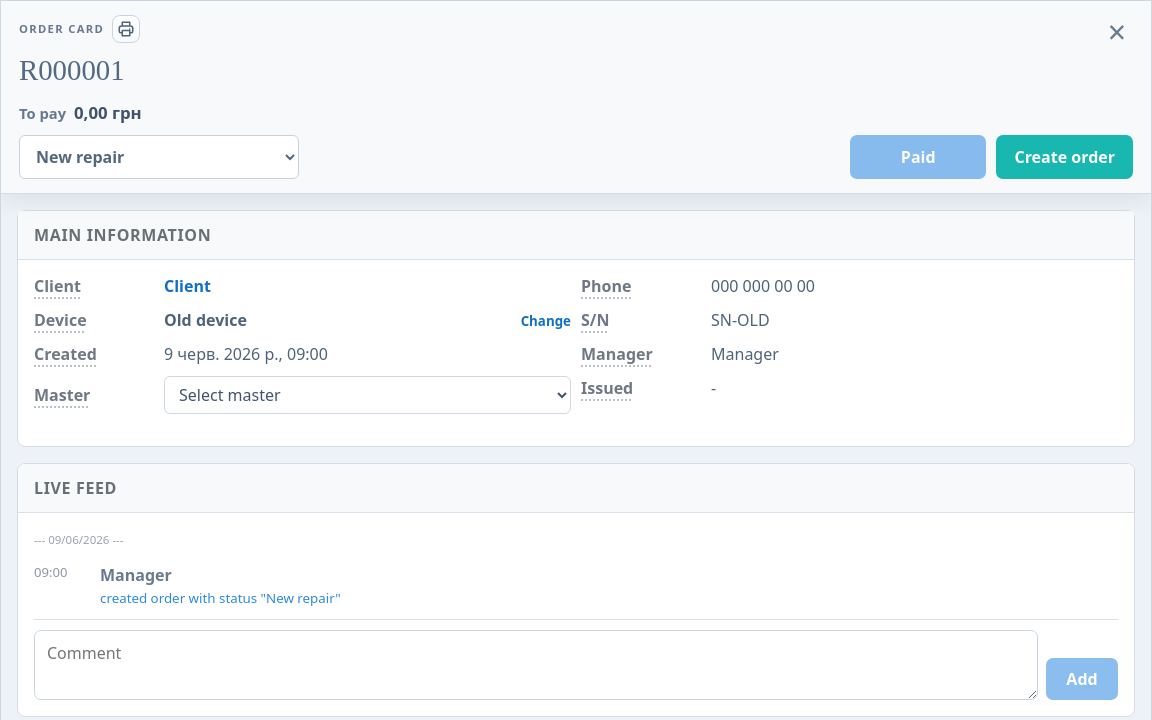
Test: OrderDetailCard repair device replacement › lists only active devices for the current client
What coordinates should you click on to do the following:
click the button with aria-label "Change device"
I would click on:
 (205, 320)
Its box is [164,308,571,332].
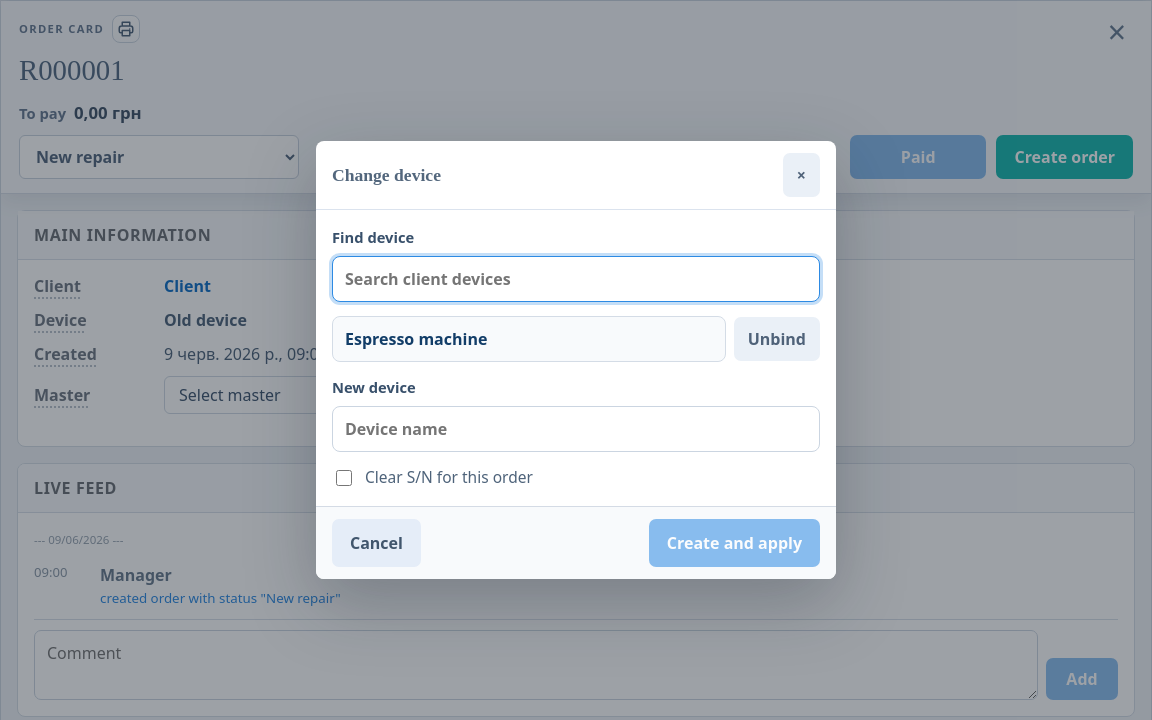
Expected: the text "Espresso machine" is shown, [345,328,487,350]
